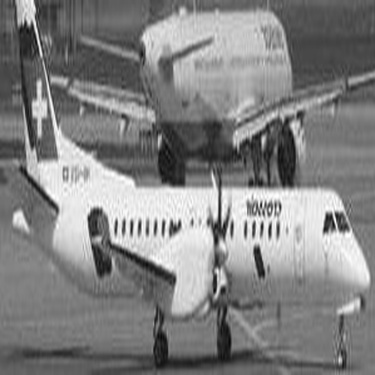airplane: (12, 12, 373, 370), (33, 5, 372, 184)
